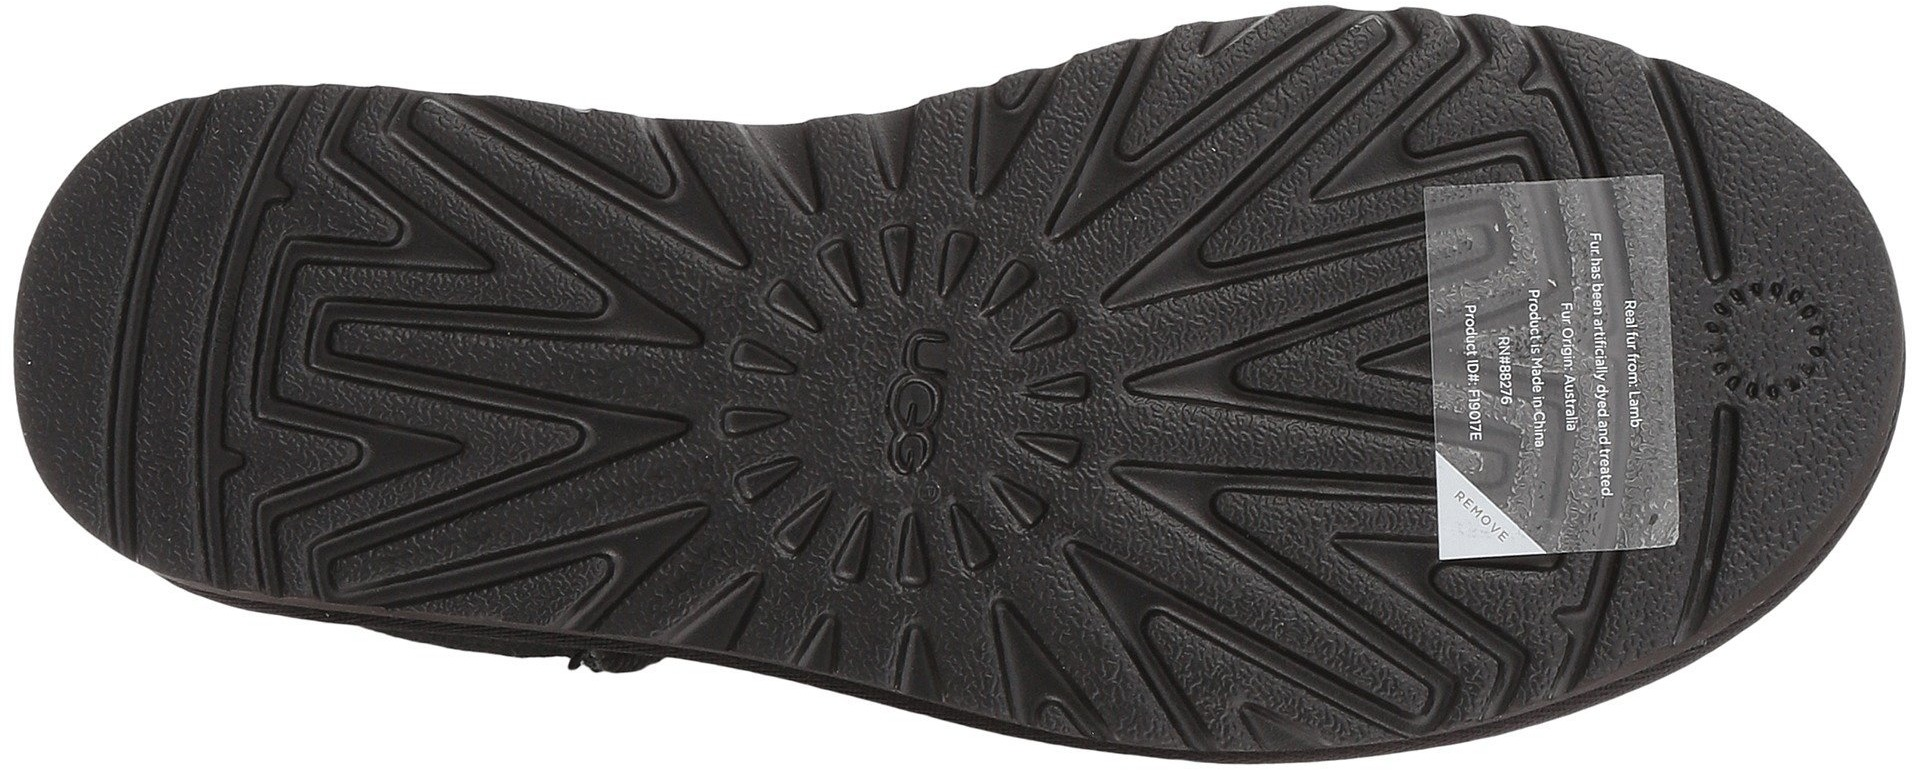chevron: (265, 134, 747, 585), (1088, 88, 1447, 422), (1211, 473, 1467, 721)
circle: (1697, 276, 1832, 408)
exclude: (1416, 170, 1677, 559)
ribbon: (52, 161, 233, 332), (44, 329, 193, 489), (1632, 120, 1783, 268), (1638, 406, 1786, 556)
text: (827, 314, 997, 492)
triangle: (813, 476, 1028, 692), (787, 121, 996, 317)
